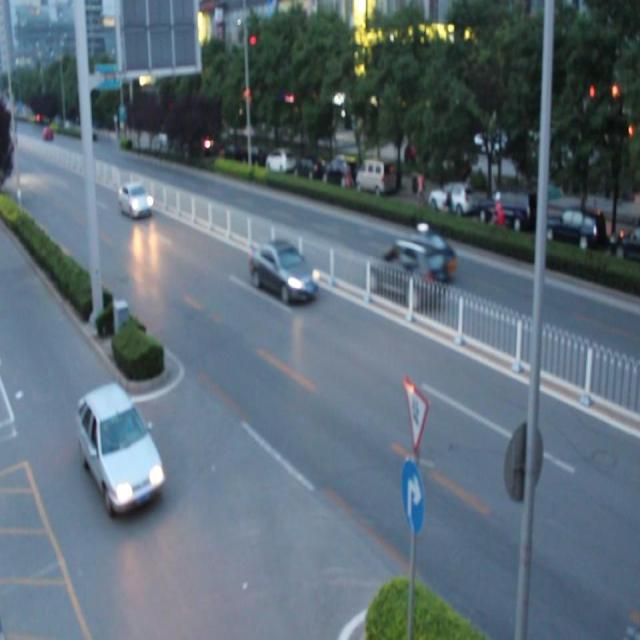car: (78, 379, 166, 510), (367, 252, 438, 313), (250, 241, 318, 302), (382, 236, 455, 282), (118, 179, 154, 218)
